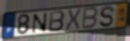8: (16, 13, 31, 36)
B: (81, 6, 99, 30), (48, 10, 66, 33)
N: (32, 12, 48, 34)
S: (99, 5, 116, 28)
X: (64, 8, 82, 32)
